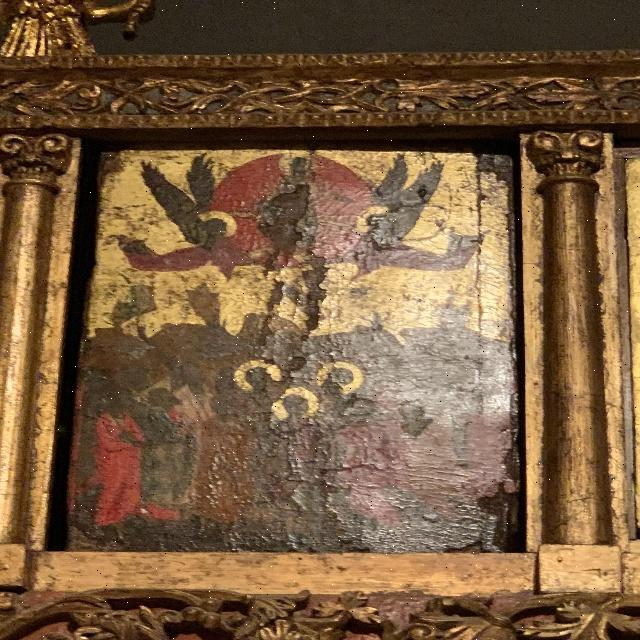angel: (348, 161, 484, 283), (121, 162, 238, 283)
aura: (232, 358, 283, 394), (271, 392, 318, 426), (279, 151, 321, 183), (322, 363, 357, 397), (363, 208, 399, 239), (203, 210, 238, 239)
wing: (136, 172, 210, 237), (384, 160, 434, 243)
